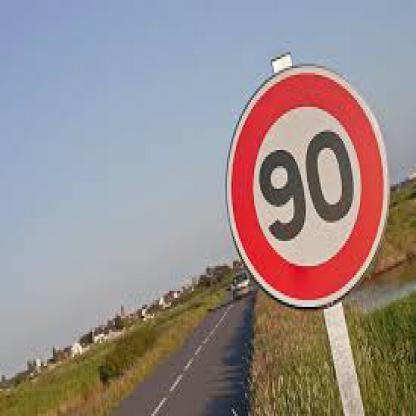Speed Limit -90-: (159, 39, 416, 342)
